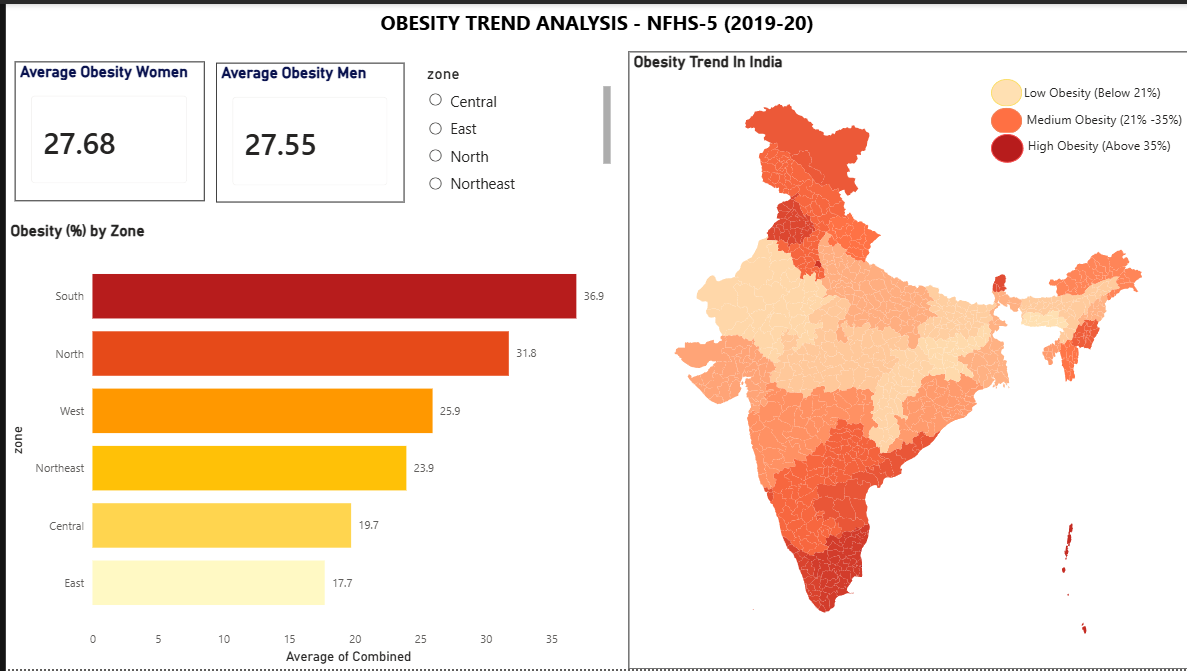

What the dashboard file says about the page in this screenshot:
{"tool":"powerbi","page":{"name":"Overview","canvas":[1280,720],"ordinal":0},"visuals":[{"type":"textbox","box":[0,0,1280,38.6],"z":0},{"type":"cardVisual","title":"Average Obesity Women","fields":{"Data":["Avg(obesity_cleaned.overweight_obese_w)"]},"box":[9.6,61.7,205.8,150.9],"z":1000},{"type":"cardVisual","title":"Average Obesity Men","fields":{"Data":["Avg(obesity_cleaned.overweight_obese_m)"]},"box":[227.4,63.6,204.4,151.6],"z":2000},{"type":"shapeMap","title":"Obesity Trend In India","fields":{"Category":["obesity_cleaned.state"],"Value":["Avg(obesity_cleaned.Combined)"]},"box":[674,51.4,606.3,668.6],"z":3000},{"type":"textbox","box":[1050.2,81.2,230.1,29.8],"z":3003},{"type":"shape","box":[1066.4,81.2,33.8,29.8],"z":3004},{"type":"textbox","box":[1023.1,111,257.1,28.4],"z":3005},{"type":"shape","box":[1066.4,112.3,33.8,28.4],"z":3006},{"type":"textbox","box":[1050.2,139.4,230.1,29.8],"z":3007},{"type":"shape","box":[1066.4,140.7,35.2,31.1],"z":3008},{"type":"clusteredBarChart","title":"Obesity (%) by Zone","fields":{"Category":["obesity_cleaned.zone"],"Y":["Avg(obesity_cleaned.Combined)"]},"box":[0,235.5,660.4,484.5],"z":3009},{"type":"listSlicer","fields":{"Values":["obesity_cleaned.zone"]},"box":[450.7,65,209.8,152.9],"z":3010}]}

Visuals, with their boxes in screenshot pixels (x1, y1, x2, y2), scaled from the page's 1280x720 canvas onto the 1187x671 screenshot:
textbox: (0, 0, 1186, 36)
"Average Obesity Women" cardVisual: (9, 58, 200, 198)
"Average Obesity Men" cardVisual: (211, 59, 400, 201)
"Obesity Trend In India" shapeMap: (625, 48, 1186, 670)
textbox: (974, 76, 1186, 103)
shape: (989, 76, 1020, 103)
textbox: (949, 103, 1186, 130)
shape: (989, 105, 1020, 131)
textbox: (974, 130, 1186, 158)
shape: (989, 131, 1022, 160)
"Obesity (%) by Zone" clusteredBarChart: (0, 219, 612, 670)
listSlicer - obesity_cleaned.zone: (418, 61, 613, 203)
